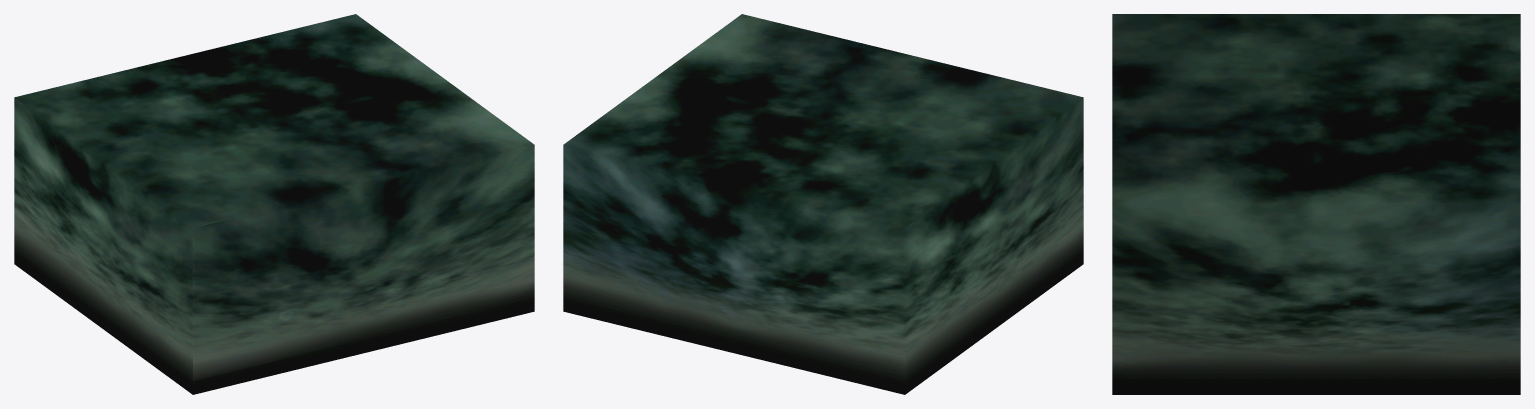
File: mansion.glb
3 renders of one model, left to right at view 1: azimuth 30°, elevation 25°; view 2: azimuth 150°, elevation 25°; view 3: azimuth 270°, elevation 25°, orthographic. The views are drawn at different scales.
Visible parts, largest first — view 1: op_mansion; view 2: op_mansion; view 3: op_mansion.
Part boxes in pixels (x1,y1,x2,y2): op_mansion: (14,14,534,394); op_mansion: (563,14,1083,394); op_mansion: (1112,14,1520,394).
Size of the model in its own units: 26730 by 12470 by 24211.
Materials: 48 (48 with a texture image).
